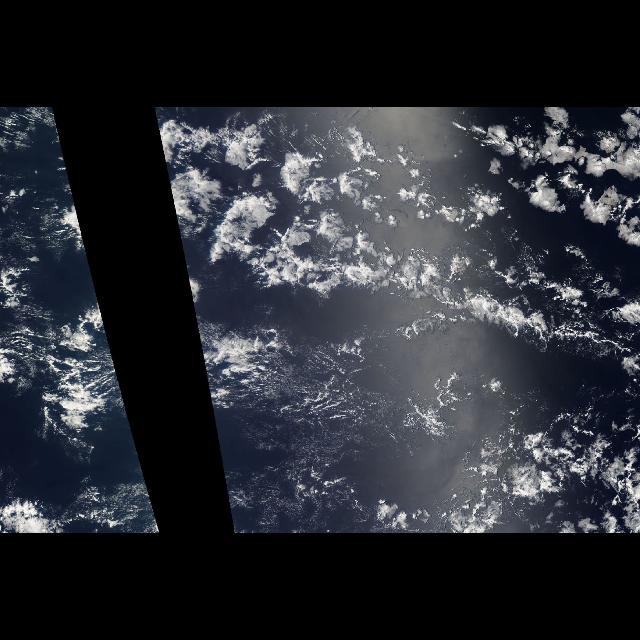Sugar: (220, 336, 408, 518)
